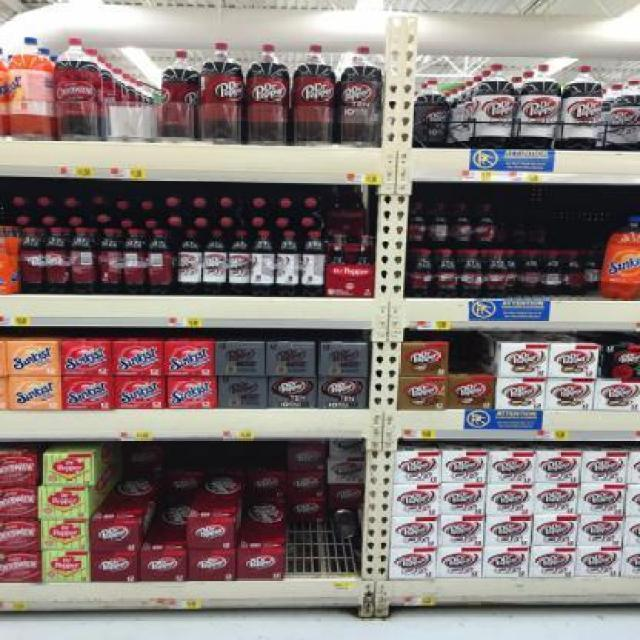Drinks: (337, 47, 383, 143), (292, 45, 336, 142), (246, 45, 290, 141), (199, 43, 243, 139), (514, 65, 560, 149), (471, 64, 515, 148), (560, 66, 603, 150), (162, 52, 200, 138), (604, 78, 640, 150), (412, 80, 450, 148), (548, 342, 600, 378), (69, 228, 97, 294), (266, 342, 317, 378), (318, 341, 369, 377), (20, 226, 46, 294), (42, 453, 94, 487), (216, 341, 265, 377), (500, 342, 549, 378), (401, 341, 449, 377), (96, 229, 122, 295), (146, 229, 172, 295), (45, 227, 69, 295), (217, 376, 268, 408), (496, 378, 547, 410), (38, 487, 89, 519), (39, 519, 90, 551), (89, 520, 140, 552), (122, 229, 146, 295), (178, 230, 202, 296), (203, 230, 227, 296), (252, 230, 276, 296), (275, 230, 299, 296), (301, 231, 325, 297), (397, 378, 446, 410), (578, 483, 626, 515), (581, 451, 629, 483), (227, 230, 251, 294), (447, 376, 495, 408), (547, 378, 595, 410), (392, 484, 440, 516), (391, 516, 439, 548), (389, 548, 437, 580), (440, 451, 488, 483), (487, 451, 535, 483), (535, 451, 583, 483), (268, 378, 317, 409), (42, 552, 91, 583), (90, 552, 139, 583), (484, 516, 533, 547), (594, 378, 638, 412), (575, 547, 623, 578), (319, 378, 367, 409), (139, 551, 187, 582), (187, 519, 235, 550), (189, 550, 237, 581), (236, 549, 284, 580), (486, 485, 534, 516), (578, 515, 624, 547), (394, 451, 440, 483), (440, 484, 486, 516), (483, 548, 529, 579), (530, 547, 576, 578), (533, 516, 579, 547), (439, 516, 485, 547), (437, 548, 483, 579), (600, 345, 638, 381), (534, 484, 578, 515), (123, 445, 163, 476), (247, 471, 285, 502), (162, 472, 202, 500), (287, 445, 327, 471), (327, 484, 365, 510), (287, 473, 327, 497), (286, 499, 326, 523), (328, 459, 366, 483), (330, 439, 366, 457)
